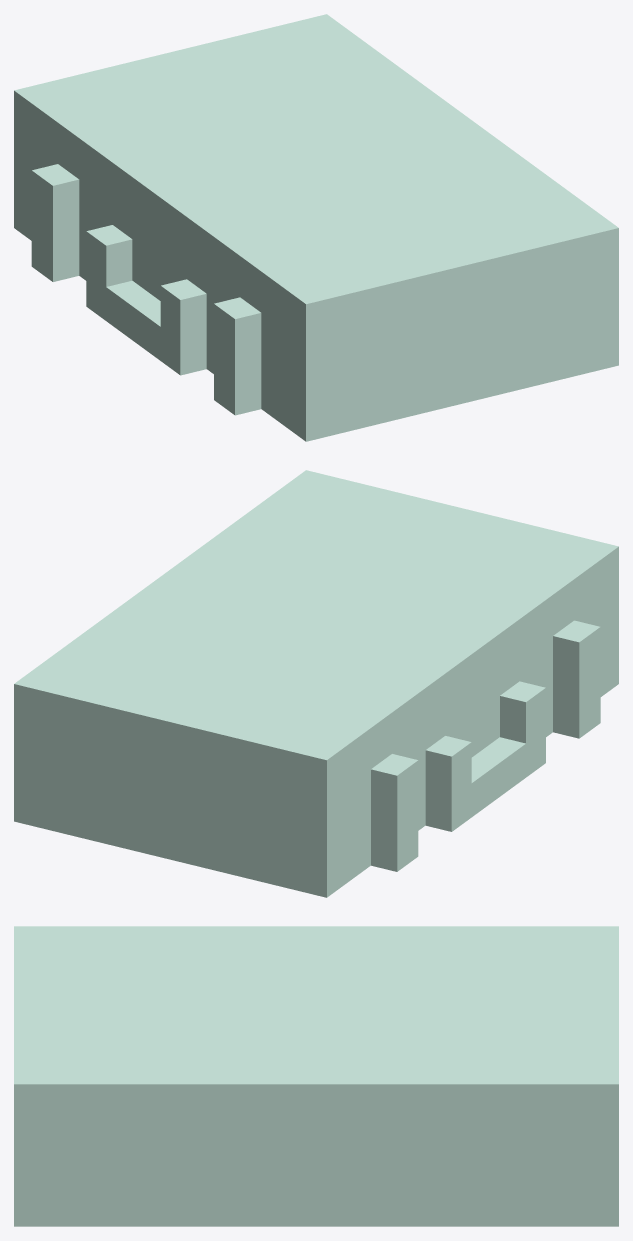
3 views of the same model, one above another, from view 1: azimuth 30°, elevation 25°; view 2: azimuth 150°, elevation 25°; view 3: azimuth 270°, elevation 25° (orthographic). The views are drawn at different scales.
Parts seen in each view (by area): view 1: Renderer Node; view 2: Renderer Node; view 3: Renderer Node.
Part boxes in pixels (left/top/right/bottom): Renderer Node: left=14, top=14, right=618, bottom=441; Renderer Node: left=14, top=470, right=618, bottom=897; Renderer Node: left=14, top=926, right=618, bottom=1226.
Size of the model in its own units: 1.01 by 0.3906 by 1.5.
